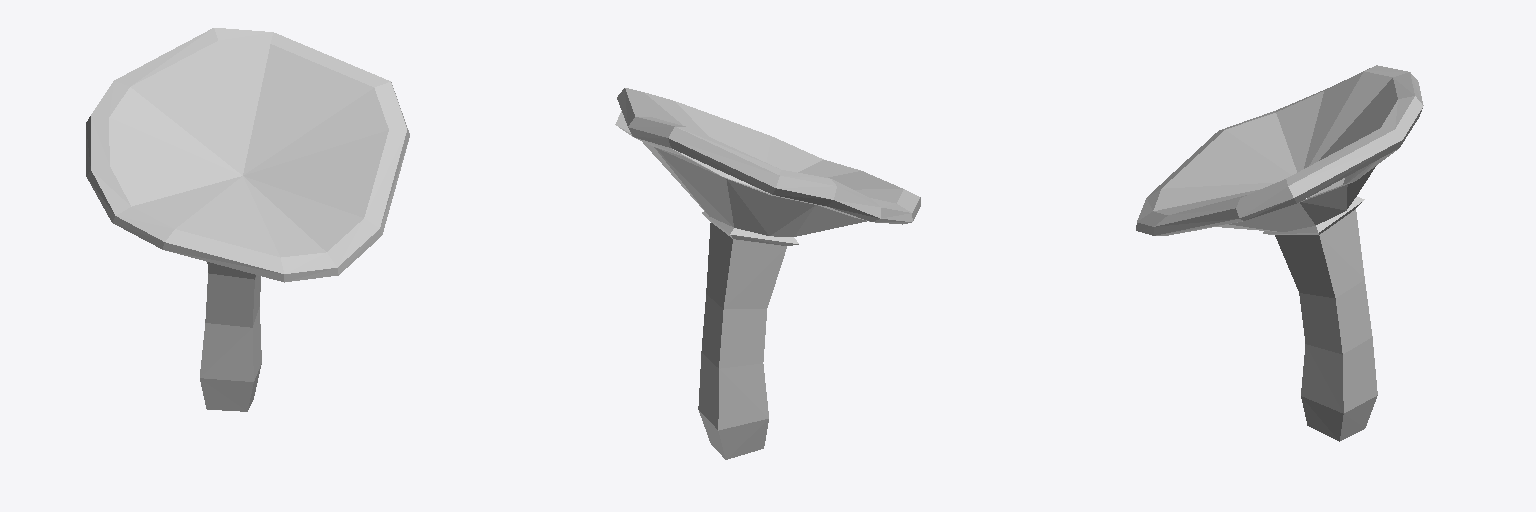
The model's file is mushroom type1.obj.
3 renders of one model, left to right at view 1: azimuth 30°, elevation 25°; view 2: azimuth 150°, elevation 25°; view 3: azimuth 270°, elevation 25°, orthographic.
Visible parts, largest first — view 1: Mesh polySurface14; view 2: Mesh polySurface14; view 3: Mesh polySurface14.
Part boxes in pixels (bbox=[...]): Mesh polySurface14: bbox=[86, 28, 409, 411]; Mesh polySurface14: bbox=[615, 88, 920, 459]; Mesh polySurface14: bbox=[1136, 65, 1423, 441].
Size of the model in its own units: 5.03 by 5.76 by 4.34.